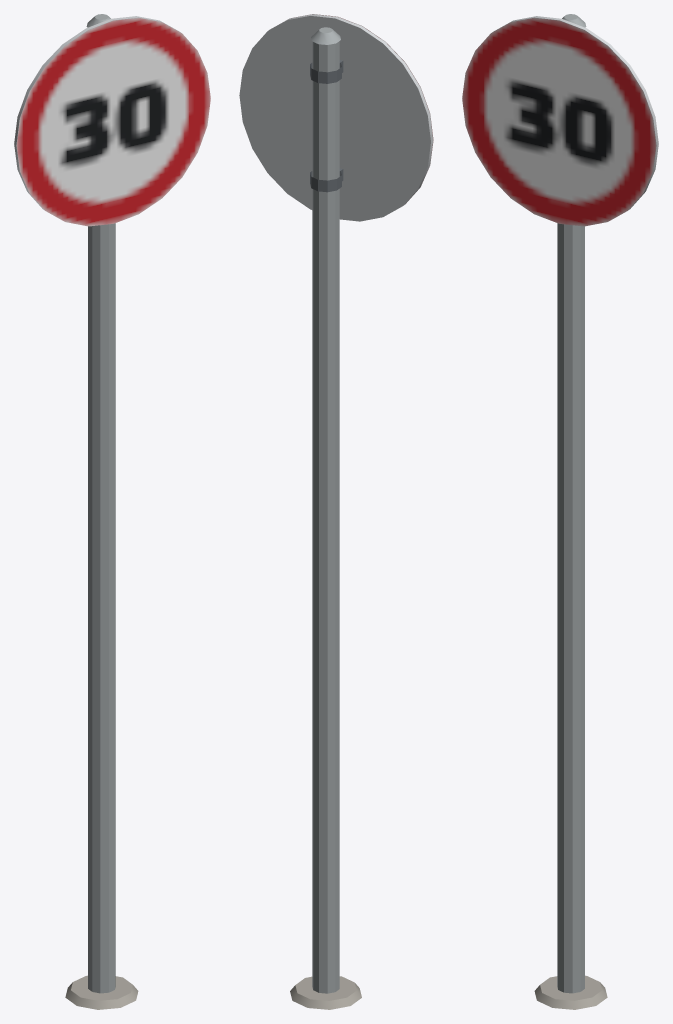
Rendered from SC_Str_Sign_Speed30.gltf.
3 renders of one model, left to right at view 1: azimuth 30°, elevation 25°; view 2: azimuth 150°, elevation 25°; view 3: azimuth 330°, elevation 25°, orthographic.
Visible parts, largest first — view 1: SC_Str_Sign_Speed30; view 2: SC_Str_Sign_Speed30; view 3: SC_Str_Sign_Speed30.
Part boxes in pixels (box(x1,y1,x2,y2)): SC_Str_Sign_Speed30: box(14, 14, 210, 1009); SC_Str_Sign_Speed30: box(239, 14, 433, 1009); SC_Str_Sign_Speed30: box(462, 14, 658, 1009).
Size of the model in its own units: 0.6 by 2.9 by 0.2.
2 materials, 2 textured.
